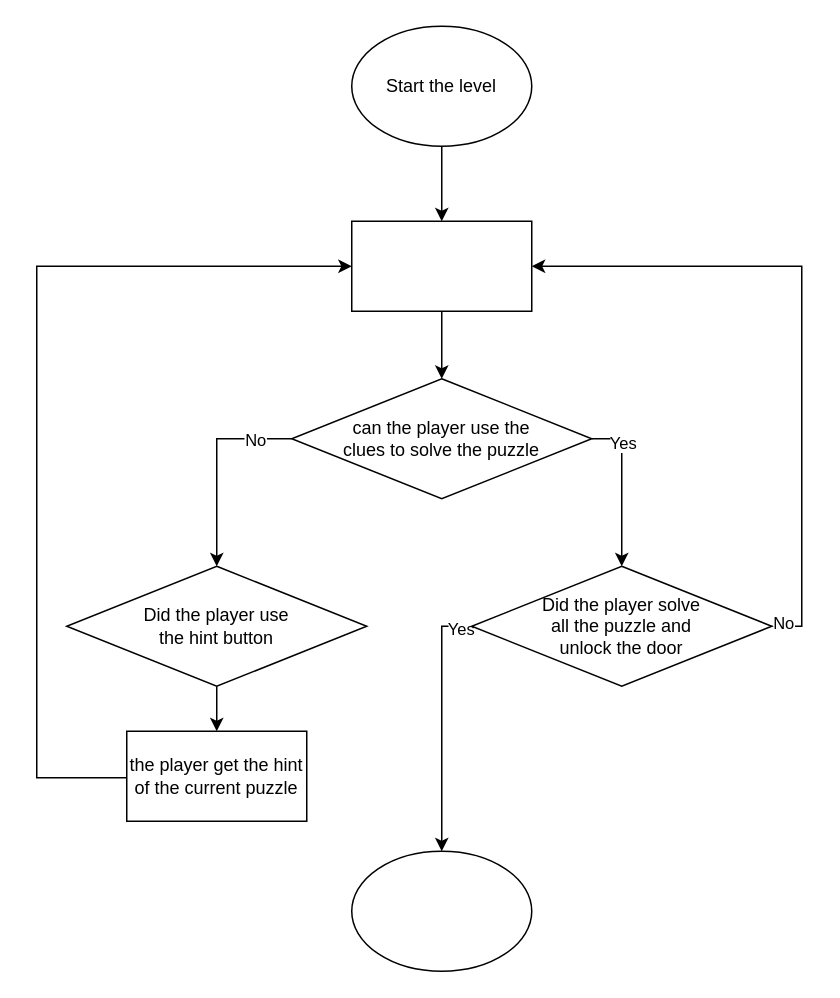
Image size: 840x998. Some labels were removed from this diagram. Here are the shapes that lost their labels. From the top down, the centre of each, then its label:
the point at 441,265: The player finds clues hidden inside the escape room
the point at 441,910: Level completed
